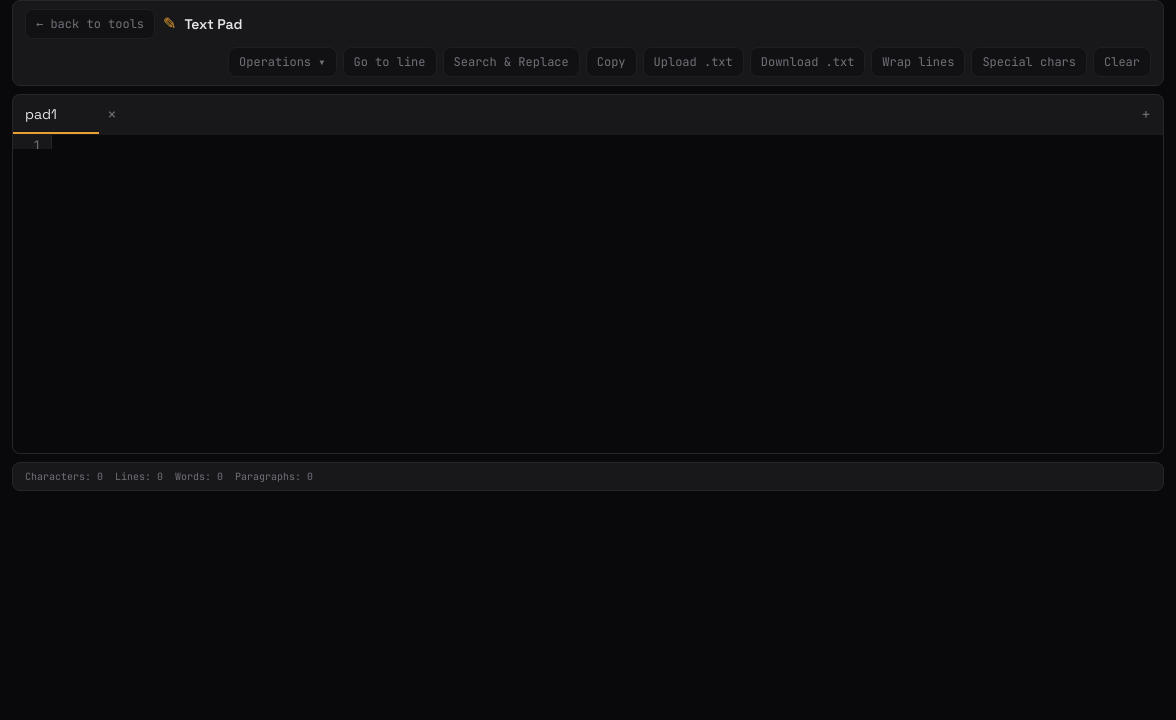
Test: TextPadView › collapses secondary operations behind a toggle
Expected: the element with class "cm-editor" is shown, [13,135,1163,184]
Expected: the text "Remove empty lines" is not shown
Click the button "Operations ▾": [282, 62] box [228,47,337,77]
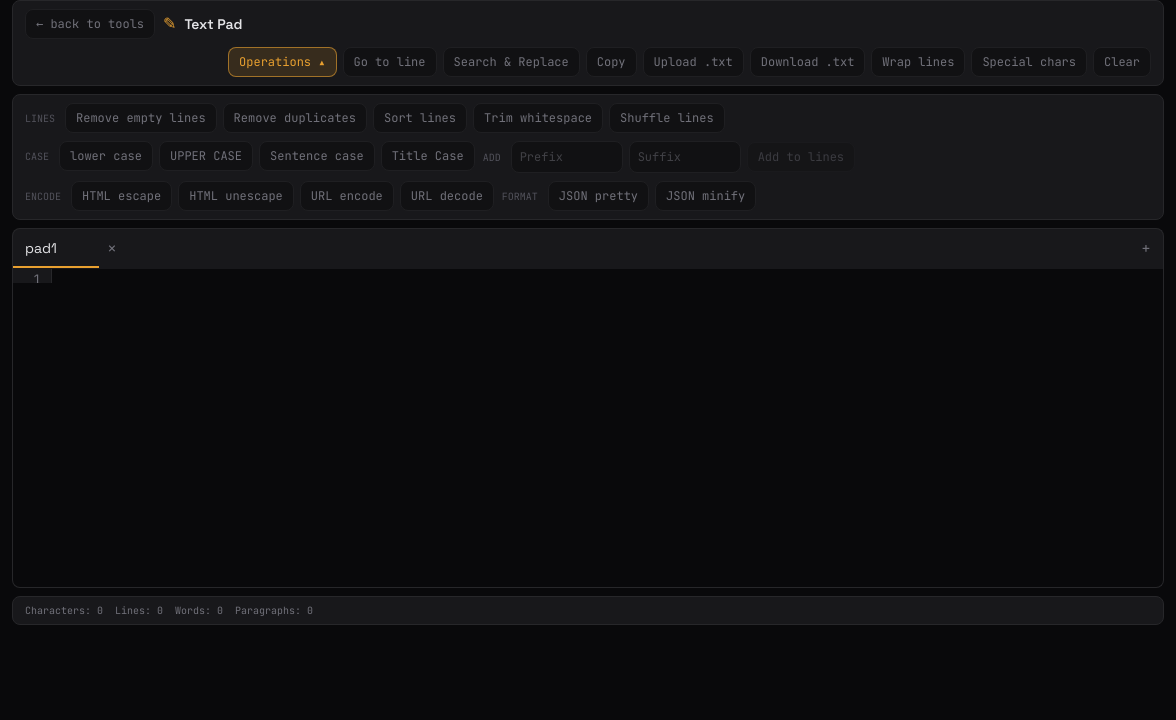
Result: the button "Remove empty lines" is shown at [65,103,217,133]
Click the button "Operations ▴": [282, 62] box [228,47,337,77]
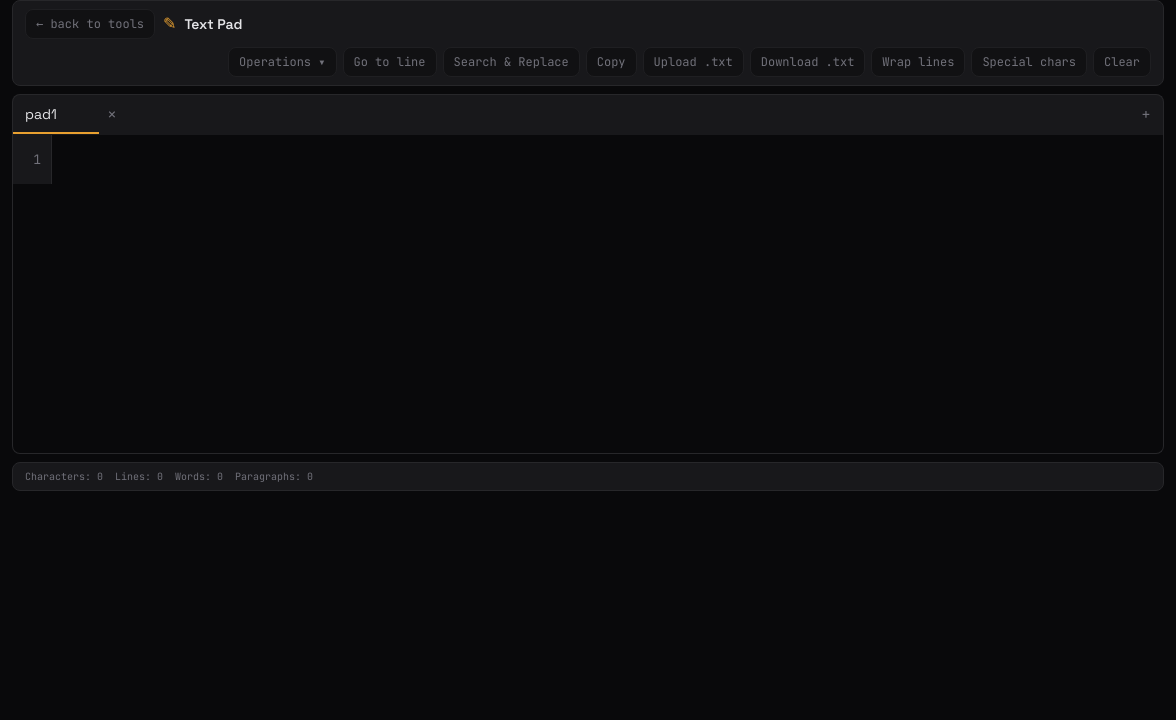
Result: the button "Remove empty lines" is gone
